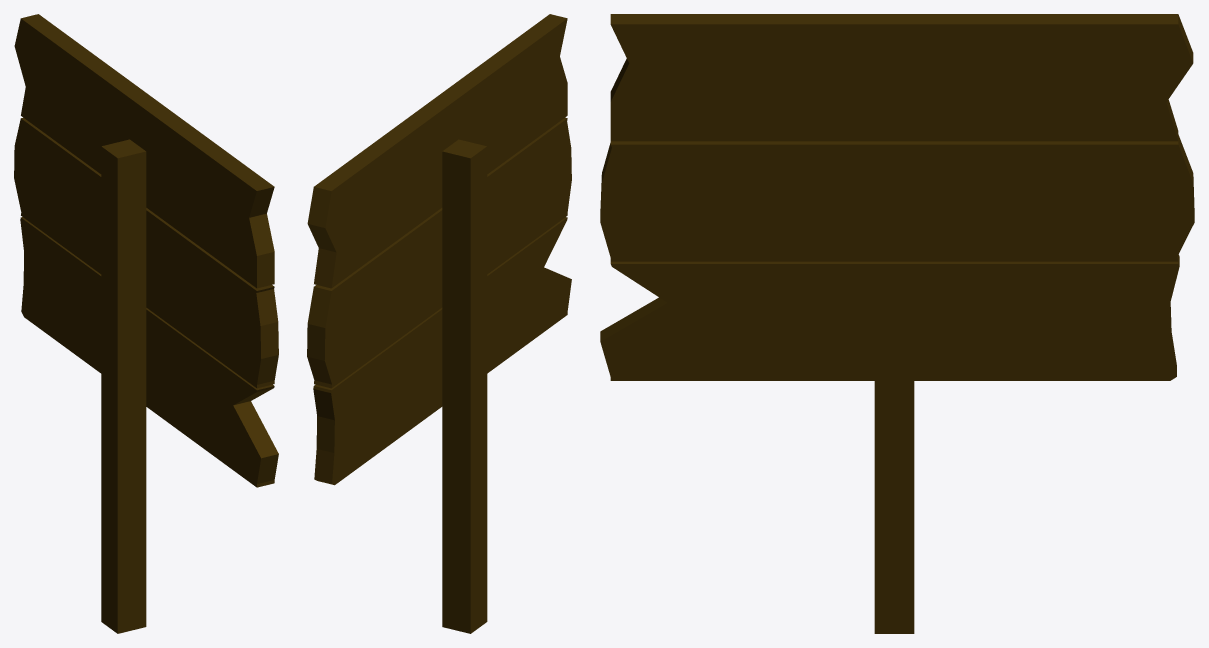
Rendered from Cartel.fbx.
3 renders of one model, left to right at view 1: azimuth 30°, elevation 25°; view 2: azimuth 150°, elevation 25°; view 3: azimuth 270°, elevation 25°, orthographic. The views are drawn at different scales.
Visible parts, largest first — view 1: Cartel.001; view 2: Cartel.001; view 3: Cartel.001.
Part boxes in pixels (x1,y1,x2,y2): Cartel.001: [14, 14, 278, 633]; Cartel.001: [307, 14, 571, 633]; Cartel.001: [600, 14, 1194, 633].
Bounding box in the file's own units: 58.56 × 613 × 532.
